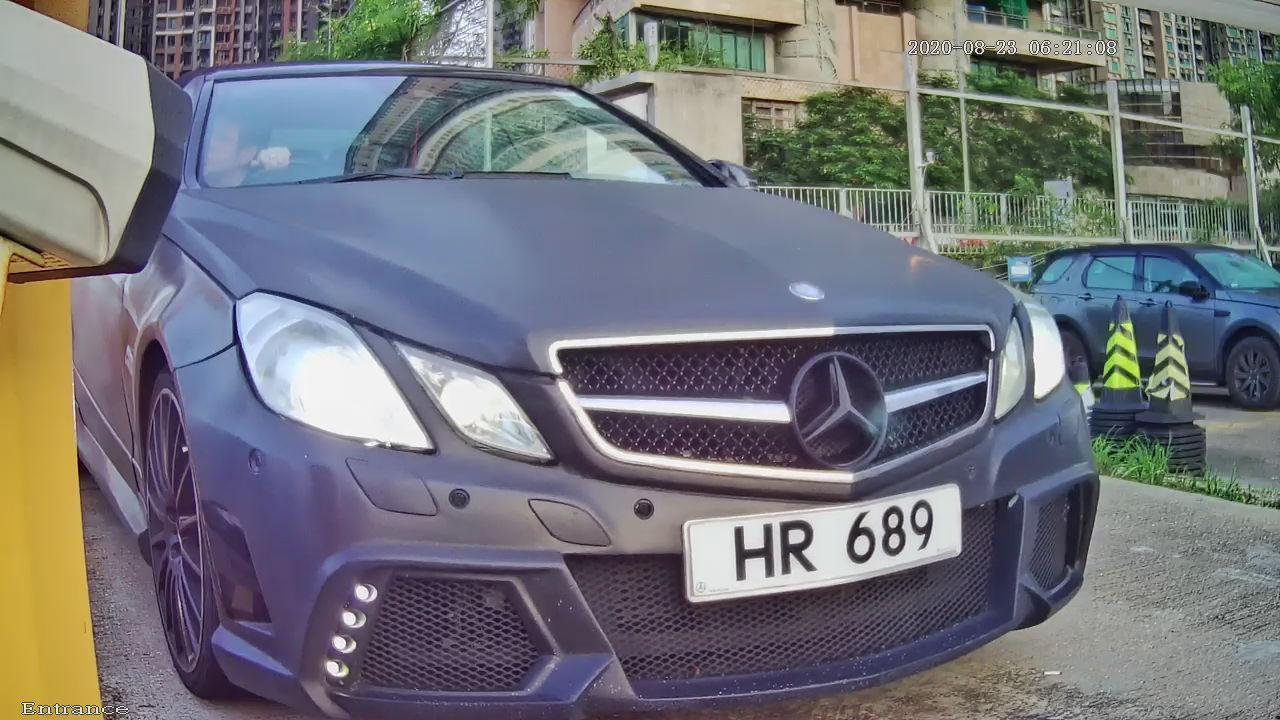Car: (58, 10, 1172, 711)
License Plate: (638, 462, 1004, 636)
